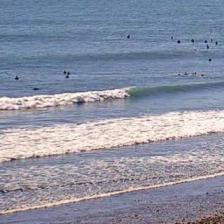surfer: (15, 76, 19, 80), (66, 71, 70, 75), (63, 70, 67, 74), (177, 39, 181, 43), (208, 58, 212, 62), (191, 38, 195, 42), (183, 72, 188, 75), (192, 72, 197, 75), (32, 88, 39, 90), (127, 34, 130, 38), (176, 73, 180, 76), (201, 74, 205, 77), (204, 40, 208, 43), (206, 45, 209, 49), (65, 76, 70, 78), (171, 36, 173, 40), (210, 38, 212, 42), (215, 42, 217, 46)
